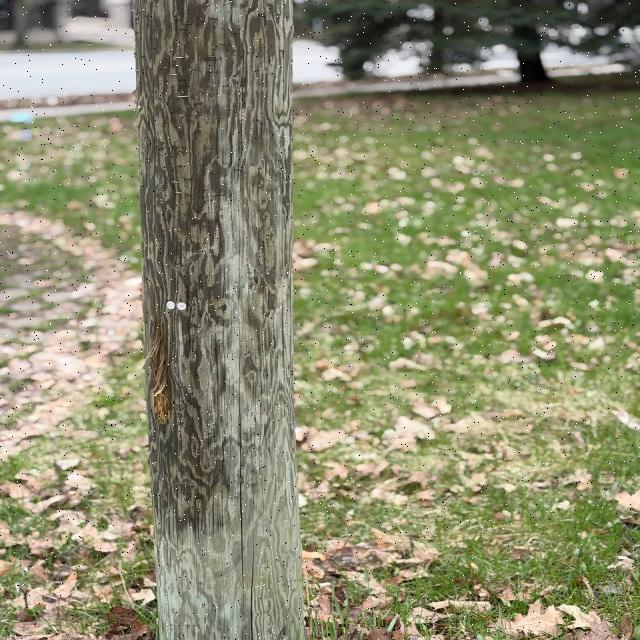Electrical Pole: (130, 0, 302, 640)
